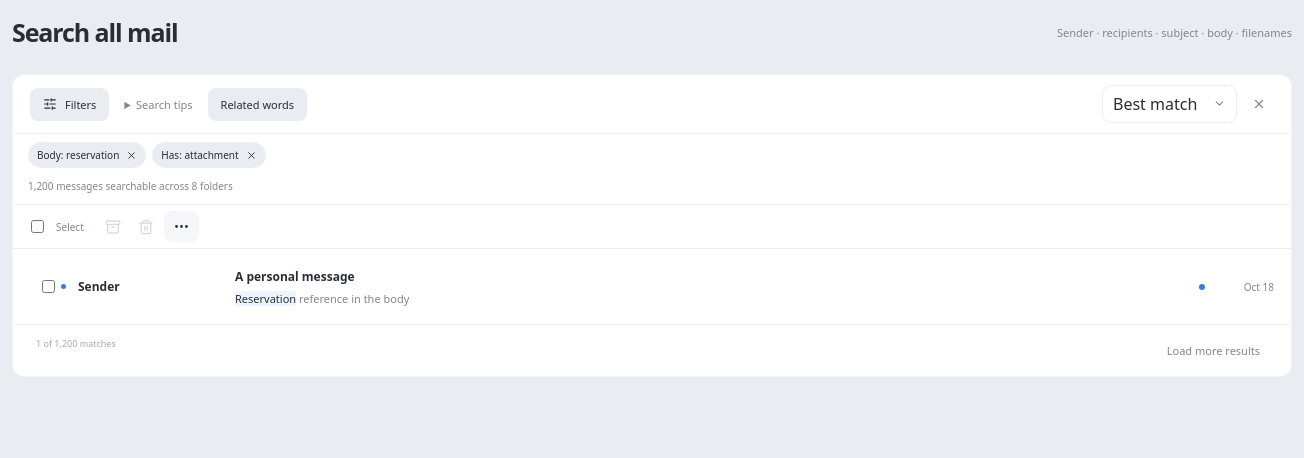
personal Outlook reader › searches the whole mailbox with visible coverage and paginates results
The image size is (1304, 458).
Click the button "Load more results" at point(1213, 350), box top-left (1159, 337), bottom-right (1268, 364)
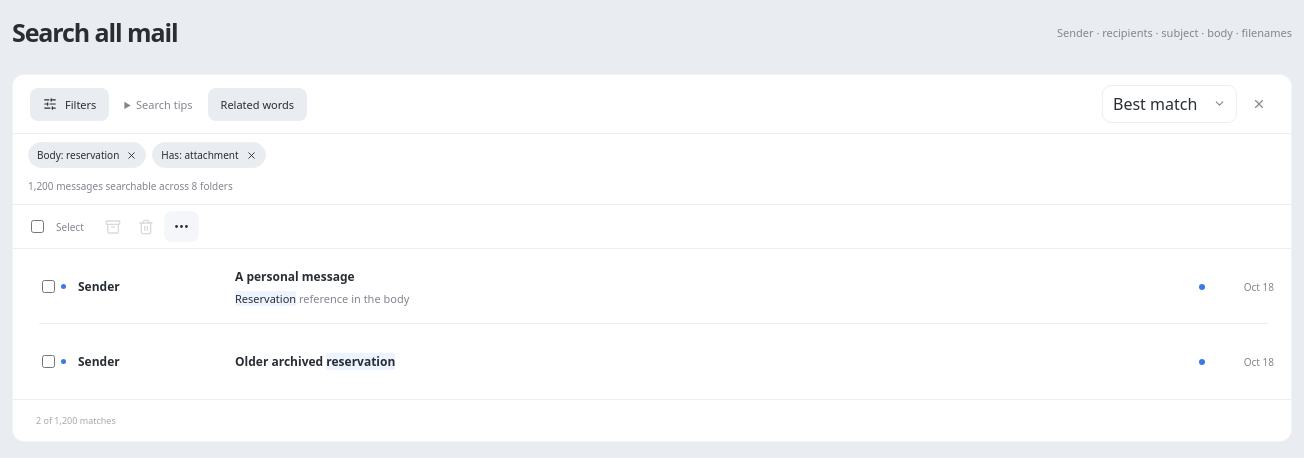
Check: the number of elements with class "mail-row" is 2, box top-left (13, 249), bottom-right (1291, 324); top-left (13, 324), bottom-right (1291, 399)
